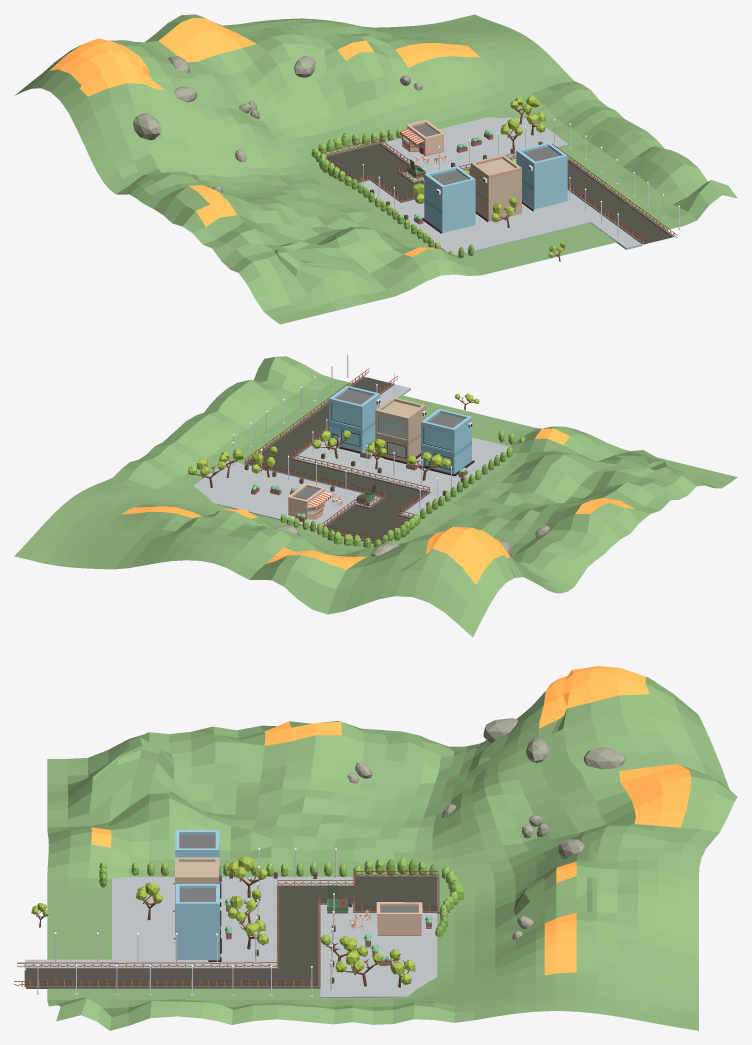
The picture shows the model from 3 angles, top to bottom: view 1: azimuth 30°, elevation 25°; view 2: azimuth 150°, elevation 25°; view 3: azimuth 270°, elevation 25°; orthographic projection. The views are drawn at different scales.
Visible parts, largest first — view 1: Plane, Asphalt, Sidewalk.003, Office window 1_Glass_0.003, Sidewalk.001, Office window 1_Glass_0.002, Office window 1_Glass_0.001, Fence, Sidewalk, Store, Border, Sidewalk.004 (+1 smaller); view 2: Plane, Asphalt, Sidewalk.003, Sidewalk.001, Office window 1_Glass_0.003, Office window 1_Glass_0.002, Office window 1_Glass_0.001, Fence, Sidewalk, Border, Store, Tree; view 3: Plane, Asphalt, Sidewalk.003, Sidewalk.001, Office window 1_Glass_0.002, Fence, Border, Sidewalk, Store, Office window 1_Glass_0.003, Office window 1_Glass_0.001, Sidewalk.004 (+4 smaller).
Boxes of the visible parts, <box> form: Plane: <box>14,14,737,324</box>; Asphalt: <box>327,144,671,244</box>; Sidewalk.003: <box>391,190,606,255</box>; Office window 1_Glass_0.003: <box>422,166,538,233</box>; Sidewalk.001: <box>382,117,555,167</box>; Office window 1_Glass_0.002: <box>516,142,567,209</box>; Office window 1_Glass_0.001: <box>470,154,521,221</box>; Fence: <box>321,138,677,243</box>; Sidewalk: <box>403,135,568,181</box>; Store: <box>400,120,444,156</box>; Border: <box>326,142,673,244</box>; Sidewalk.004: <box>591,218,642,249</box>; Plane: <box>14,356,737,637</box>; Asphalt: <box>247,377,425,541</box>; Sidewalk.003: <box>294,437,509,495</box>; Sidewalk.001: <box>193,470,353,529</box>; Office window 1_Glass_0.003: <box>327,409,474,476</box>; Office window 1_Glass_0.002: <box>329,385,380,451</box>; Office window 1_Glass_0.001: <box>375,397,426,461</box>; Fence: <box>245,368,429,541</box>; Sidewalk: <box>215,460,381,506</box>; Border: <box>244,376,430,544</box>; Store: <box>287,483,331,519</box>; Tree: <box>406,452,451,480</box>; Plane: <box>47,666,737,1030</box>; Asphalt: <box>24,878,436,987</box>; Sidewalk.003: <box>112,877,276,967</box>; Sidewalk.001: <box>352,912,437,997</box>; Office window 1_Glass_0.002: <box>175,884,220,959</box>; Fence: <box>14,870,438,986</box>; Border: <box>26,875,439,988</box>; Sidewalk: <box>320,904,352,997</box>; Store: <box>376,902,422,935</box>; Office window 1_Glass_0.003: <box>173,830,221,961</box>; Office window 1_Glass_0.001: <box>175,857,219,933</box>; Sidewalk.004: <box>25,959,111,970</box>.
Bounding box in the file's own units: 118 × 25.12 × 130.
